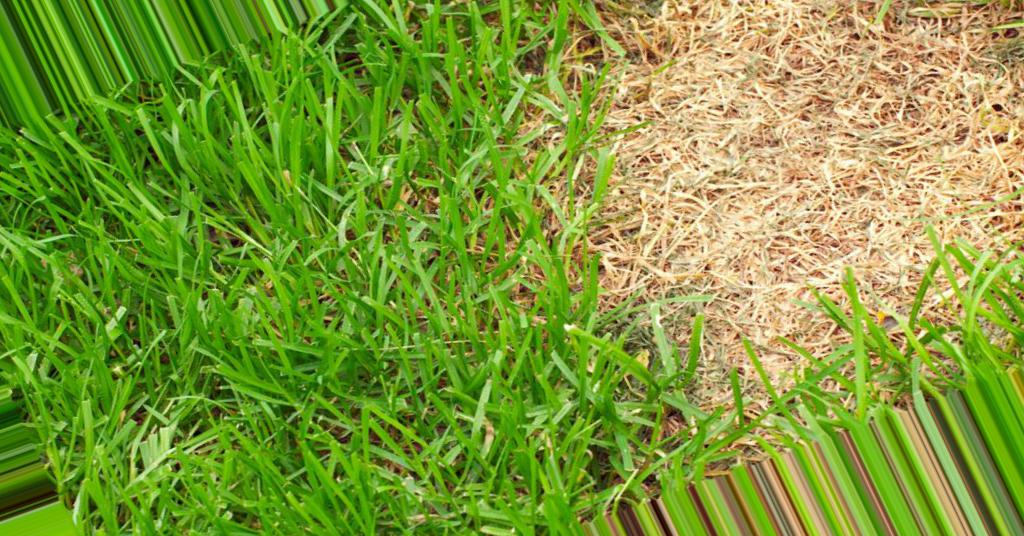patch: (878, 84, 1017, 269), (650, 225, 866, 332), (658, 94, 849, 206), (695, 10, 844, 86)
